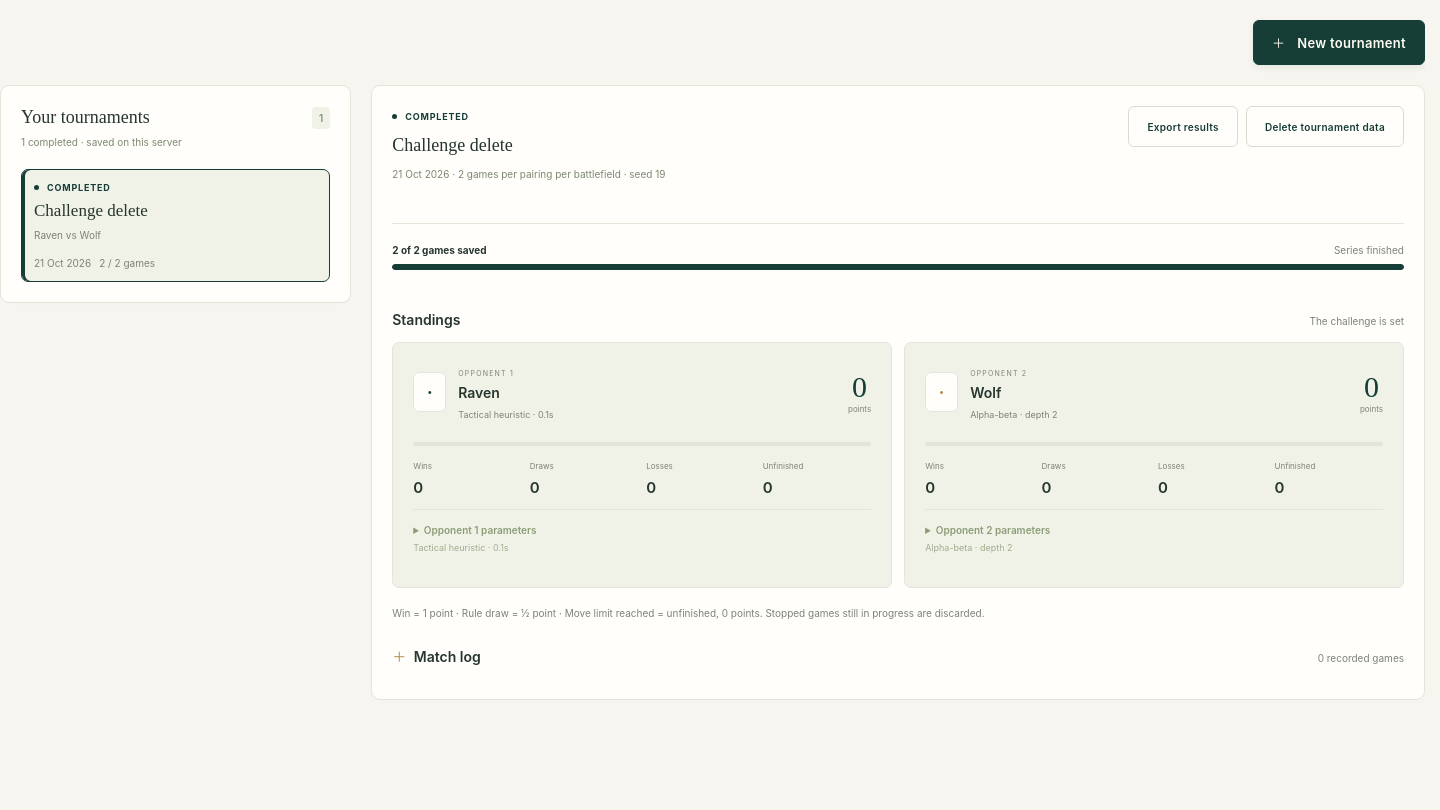
Test: labels the destructive tournament action as deleting tournament data
Check: the heading "Challenge delete" is shown, box [392,135,513,155]
Click the button "Delete tournament data" at (1325, 126), box [1246,106,1404,147]
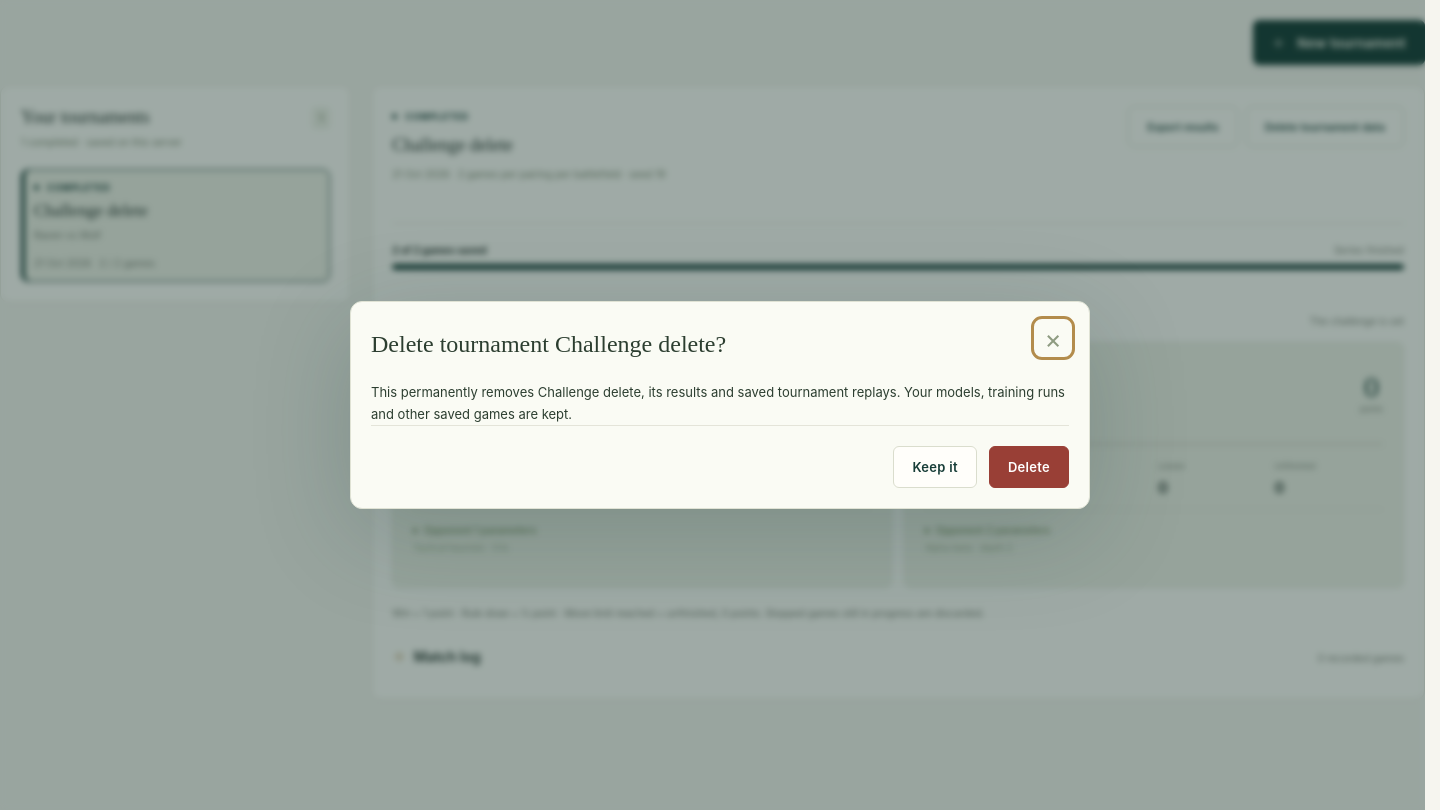
Check: the dialog "Delete tournament Challenge delete?" is shown, box [350,301,1090,509]
